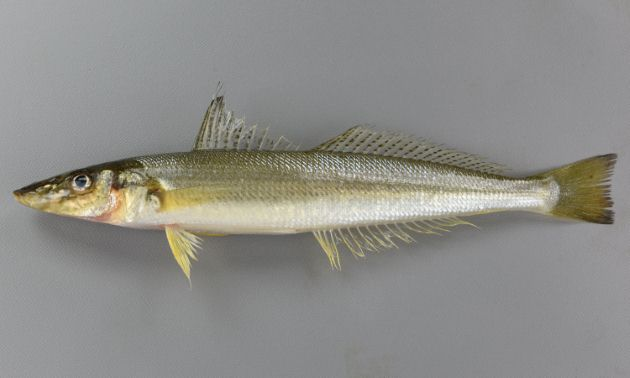kiss: (15, 126, 618, 279)
